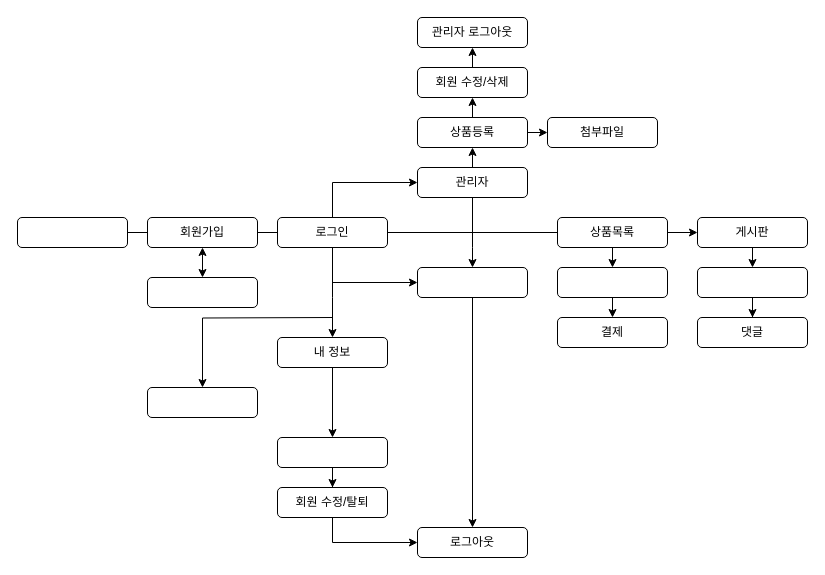
Image size: 825x575. Some labels were removed from this diagram. The shapes that lost their labels are listed below. From the top down, each one's box as (x1, y1, x2, y2) in pixels, then its label:
(16, 216, 128, 248): 메인 홈페이지
(146, 276, 258, 308): 필수 항목 입력
(416, 266, 528, 298): 네이버 로그인
(556, 266, 668, 298): 장바구니에 담기
(696, 266, 808, 298): 리뷰작성
(146, 386, 258, 418): 장바구니 확인
(276, 436, 388, 468): 결제내역 확인
